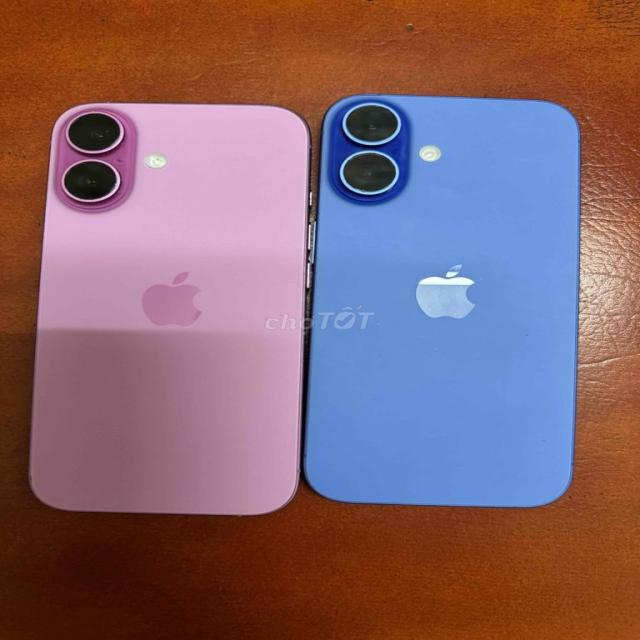gen_16: (22, 83, 306, 526), (303, 84, 593, 512)
